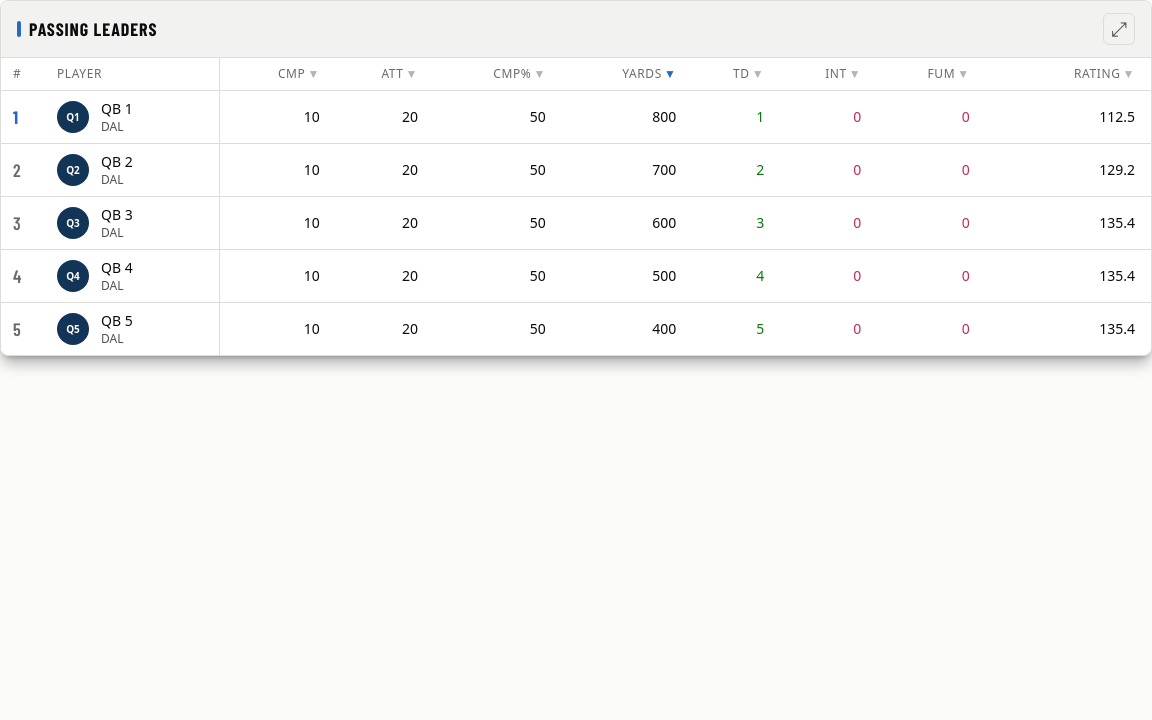
Test: StatLeadersPanel › lists every player in the expanded view
The image size is (1152, 720).
Step 1. Click the button named "show all" → (1119,29), box x1=1103 y1=13 x2=1135 y2=45
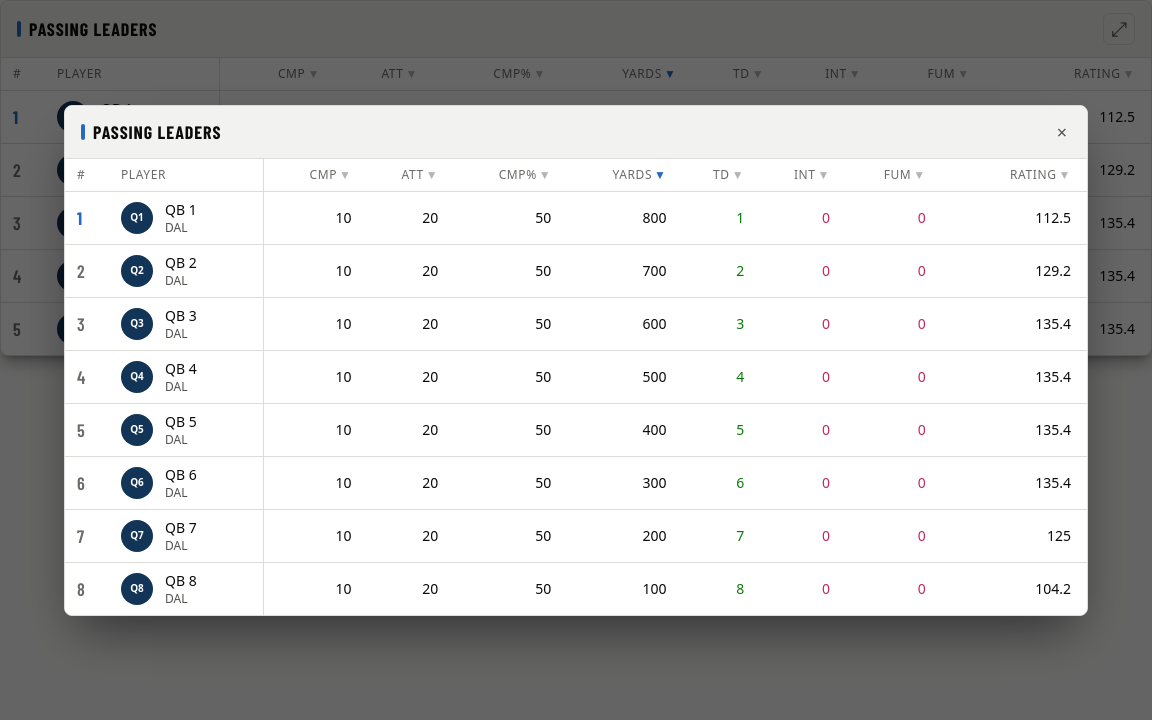
expect the link "QB 8" is shown: met, box x1=165 y1=570 x2=197 y2=590
